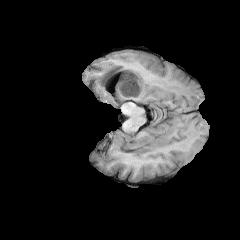glioma: (96, 65, 145, 102)
